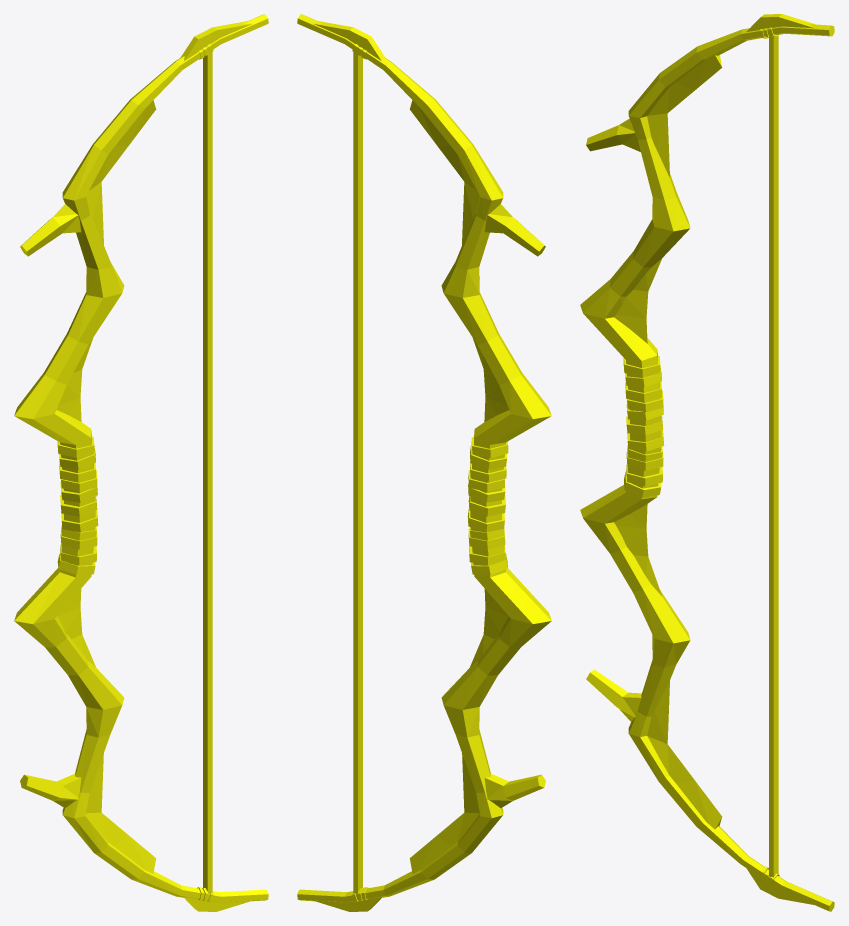
Rendered from _bow_3.glb.
3 renders of one model, left to right at view 1: azimuth 30°, elevation 25°; view 2: azimuth 150°, elevation 25°; view 3: azimuth 330°, elevation 25°, orthographic.
Parts seen in each view (by area): view 1: bow_3; view 2: bow_3; view 3: bow_3.
Part boxes in pixels (x1,y1,x2,y2): bow_3: [14, 14, 268, 911]; bow_3: [297, 14, 551, 911]; bow_3: [580, 14, 834, 911].
Size of the model in its own units: 9213 by 30915 by 1159.
